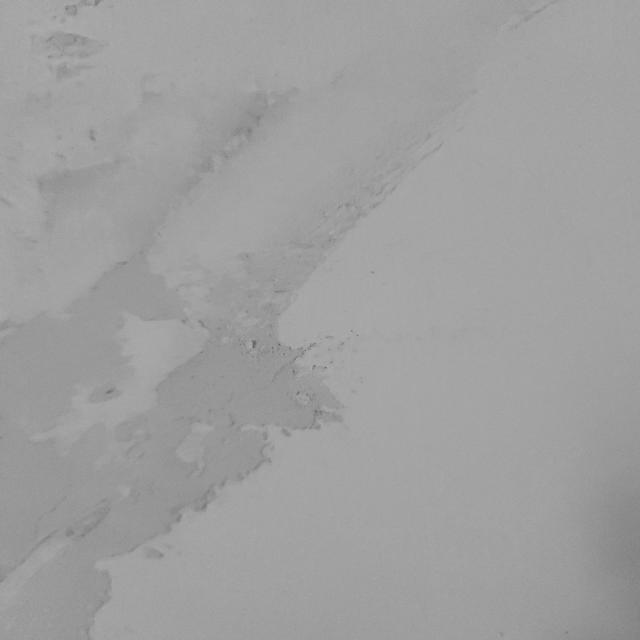rough and patchy surface: (16, 13, 567, 636)
